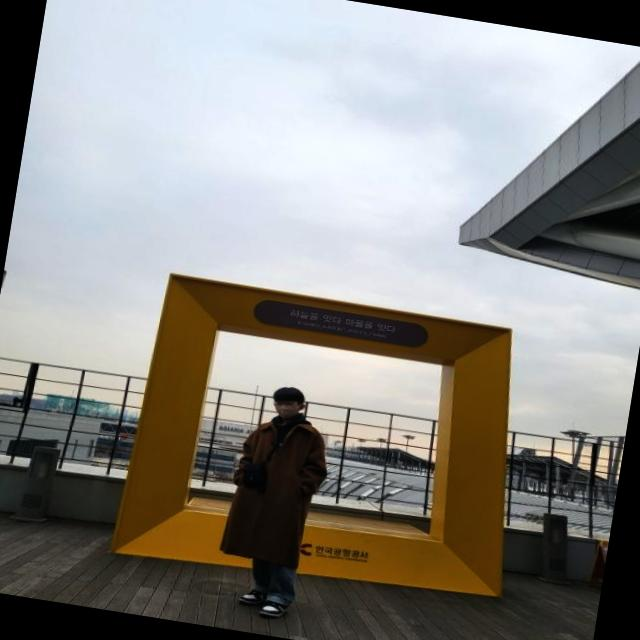coat: (220, 404, 334, 572)
denimpants: (244, 556, 300, 610)
